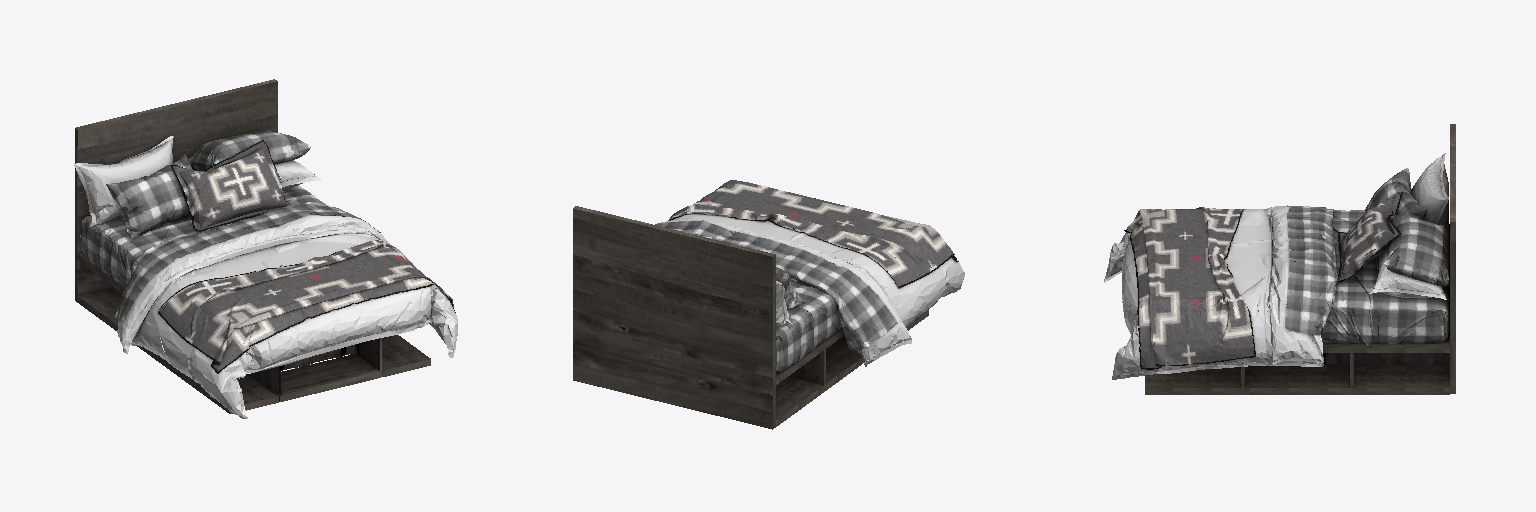
3 renders of one model, left to right at view 1: azimuth 30°, elevation 25°; view 2: azimuth 150°, elevation 25°; view 3: azimuth 270°, elevation 25°, orthographic.
Visible parts, largest first — view 1: solid_004, solid_003, solid_006, solid_002, solid_005, solid_001; view 2: solid_003, solid_002, solid_006, solid_004; view 3: solid_002, solid_006, solid_004, solid_003, solid_005, solid_001.
Part boxes in pixels (bbox=[...]): solid_004: bbox=[74, 136, 457, 418]; solid_003: bbox=[75, 79, 430, 413]; solid_006: bbox=[159, 240, 453, 371]; solid_002: bbox=[80, 131, 380, 320]; solid_005: bbox=[173, 141, 290, 230]; solid_001: bbox=[158, 140, 455, 373]; solid_003: bbox=[573, 206, 928, 429]; solid_002: bbox=[655, 220, 897, 373]; solid_006: bbox=[668, 180, 956, 286]; solid_004: bbox=[657, 214, 964, 366]; solid_002: bbox=[1285, 168, 1449, 344]; solid_006: bbox=[1126, 207, 1254, 367]; solid_004: bbox=[1104, 153, 1448, 379]; solid_003: bbox=[1145, 124, 1455, 394]; solid_005: bbox=[1338, 194, 1399, 280]; solid_001: bbox=[1124, 192, 1402, 369].
Bounding box in the file's own units: 2.02 × 1.21 × 2.24.
Materials: 1 (1 with a texture image).